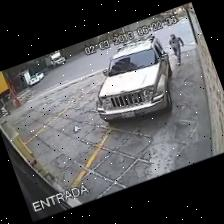person: (169, 34, 184, 65)
